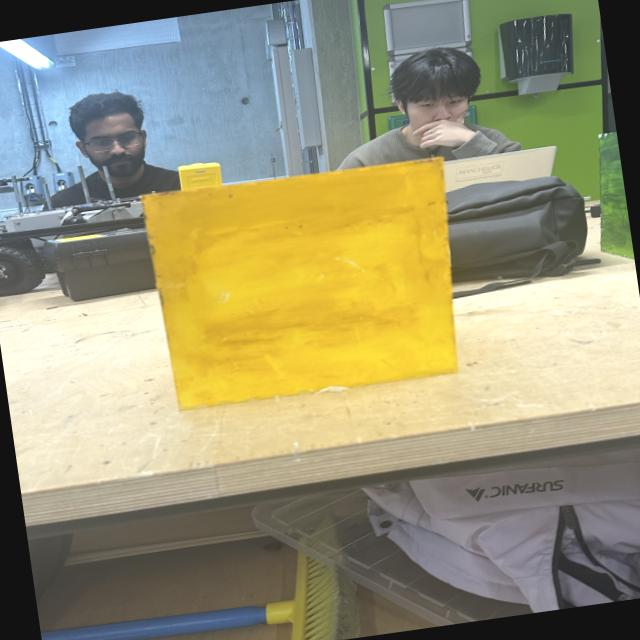yellow_bin: (140, 150, 475, 416)
